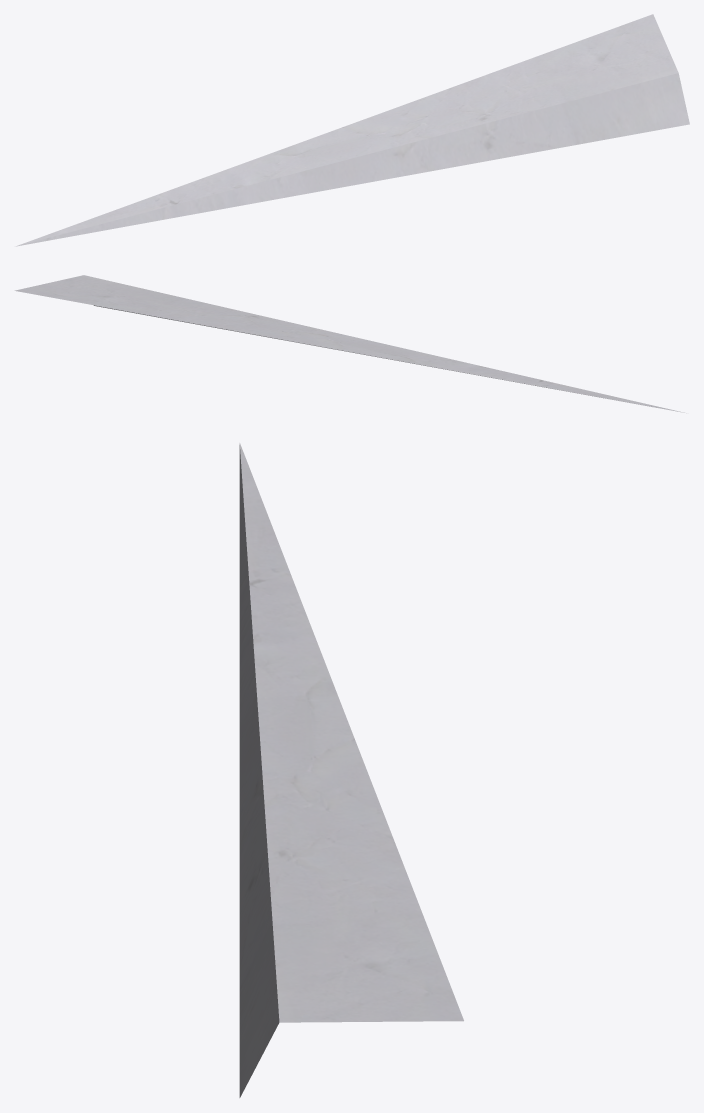
The picture shows the model from 3 angles, top to bottom: view 1: azimuth 30°, elevation 25°; view 2: azimuth 150°, elevation 25°; view 3: azimuth 270°, elevation 25°; orthographic projection. The views are drawn at different scales.
Parts seen in each view (by area): view 1: Plane.002; view 2: Plane.002; view 3: Plane.002.
Boxes of the visible parts, x1,y1,x2,y2 form: Plane.002: (15, 14, 689, 246); Plane.002: (14, 275, 686, 413); Plane.002: (239, 443, 463, 1097).
Size of the model in its own units: 2.08 by 0.1616 by 0.3264.
1 material, 1 textured.
